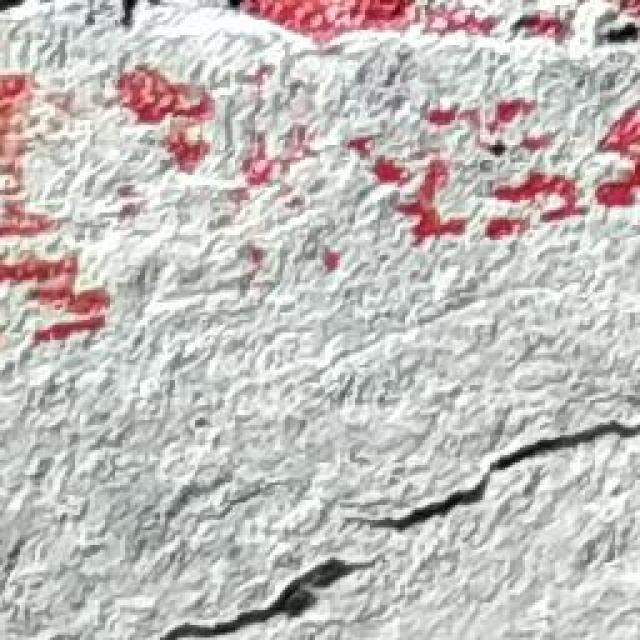Diagonal: (90, 417, 640, 640)
